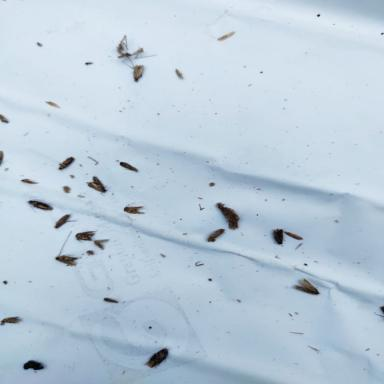pbw: (85, 176, 110, 196), (143, 348, 168, 368), (294, 278, 320, 295), (27, 199, 54, 213), (54, 252, 78, 266), (54, 214, 76, 228), (58, 156, 75, 173), (206, 228, 225, 242), (132, 65, 144, 82), (272, 229, 283, 245), (0, 316, 20, 324)
